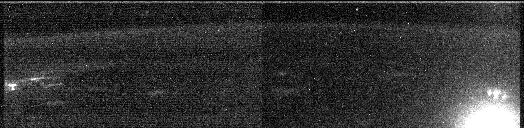positive: (482, 86, 511, 104)
